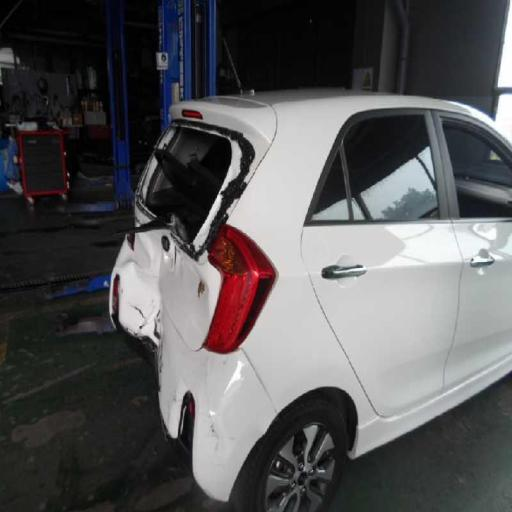broken: (93, 142, 209, 422)
